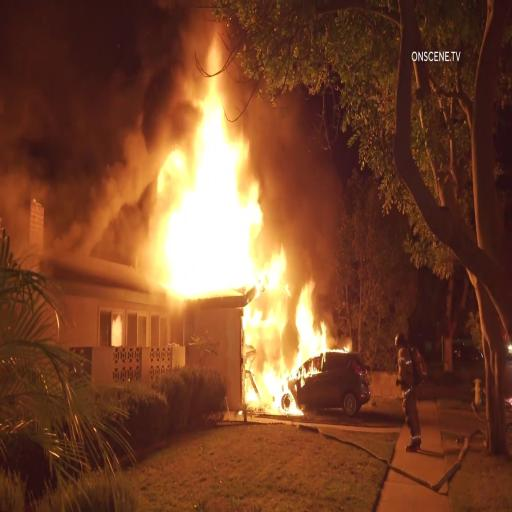fire: (155, 16, 260, 288), (257, 252, 330, 431)
smoke: (2, 2, 152, 272), (268, 61, 324, 246), (0, 0, 120, 51)
